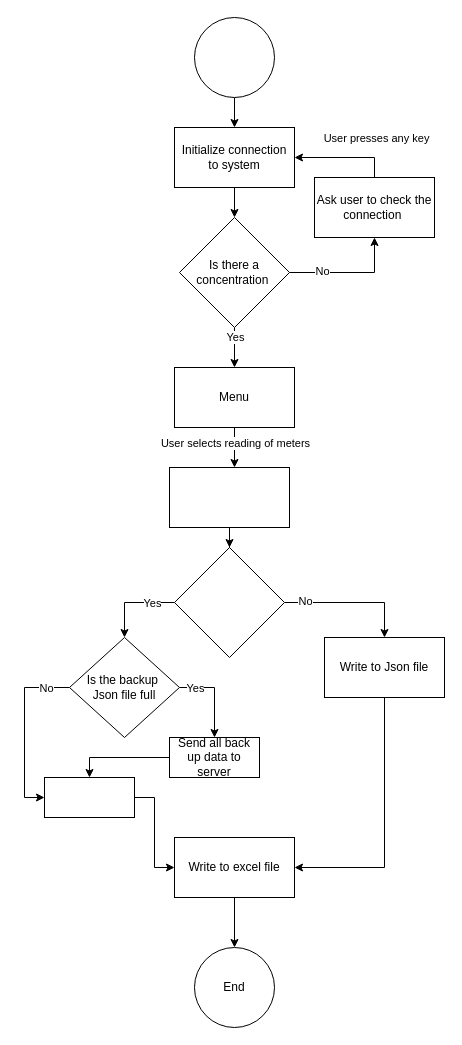
The diagram is 462 pixels wide and 1045 high, and some of its shapes have lost their labels. The box of each missing label's shape, as (x1, y1, x2, y2) in pixels:
Is there internet connection: (174, 546, 284, 658)
Read all electric meters as per settings: (168, 466, 290, 528)
Send meter data to server: (44, 776, 134, 818)
Start: (194, 16, 274, 98)
